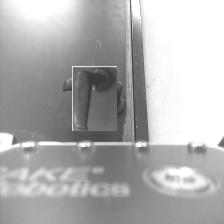Door Handle: (67, 71, 122, 126)
